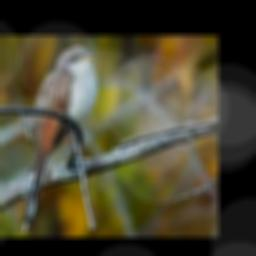Cuckoo: (22, 45, 97, 233)
